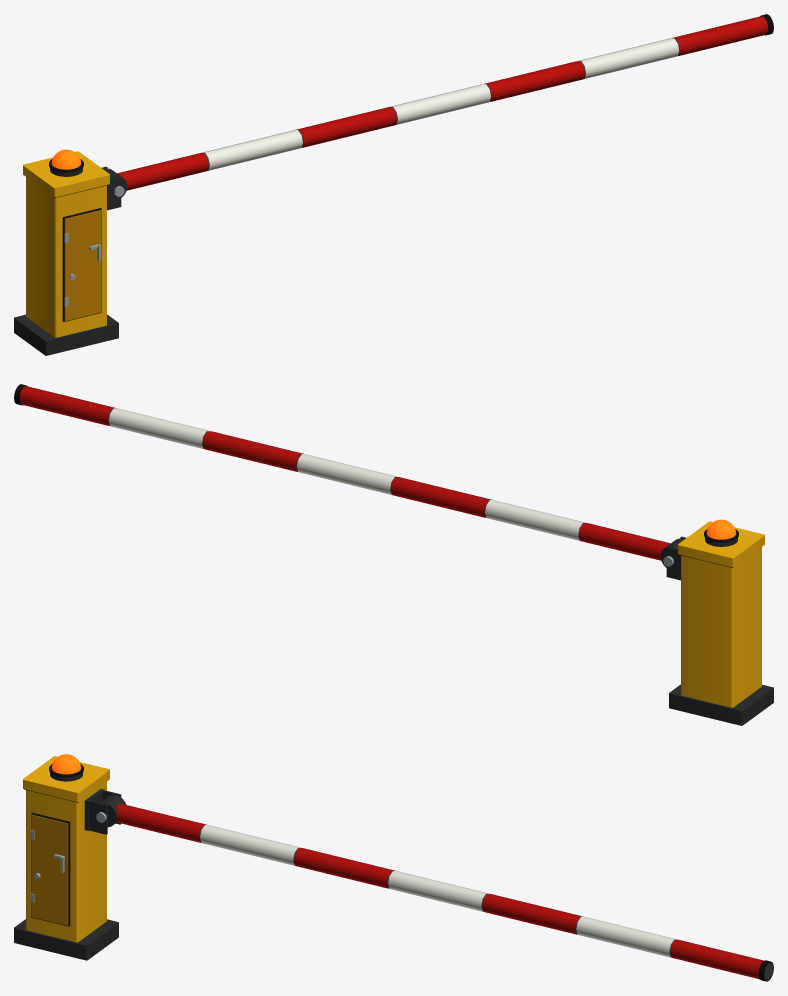
Rendered from boom-barrier-gate.glb.
3 views of the same model, one above another, from view 1: azimuth 30°, elevation 25°; view 2: azimuth 150°, elevation 25°; view 3: azimuth 330°, elevation 25° (orthographic).
Parts seen in each view (by area): view 1: cabinet_shell, Geom.001, base_plinth, top_cap, boom_paint_2, boom_paint_5, boom_paint_1, boom_paint_3, boom_paint_4, boom_paint_6, boom_paint_0; view 2: cabinet_shell, base_plinth, top_cap, boom_paint_2, boom_paint_5, boom_paint_1, boom_paint_3, boom_paint_4, boom_paint_6, boom_paint_0; view 3: cabinet_shell, Geom.001, base_plinth, top_cap, boom_paint_5, boom_paint_2, boom_paint_3, boom_paint_1, boom_paint_4, boom_paint_6, boom_paint_0, hinge_bracket (+2 smaller).
Part boxes in pixels (x1,y1,x2,y2): cabinet_shell: (26,177,106,337); Geom.001: (64,210,101,321); base_plinth: (14,314,118,355); top_cap: (23,151,109,197); boom_paint_2: (295,107,396,147); boom_paint_5: (578,38,678,78); boom_paint_1: (201,130,302,170); boom_paint_3: (390,84,490,124); boom_paint_4: (484,61,584,101); boom_paint_6: (672,16,768,55); boom_paint_0: (117,153,208,190); cabinet_shell: (681,547,761,707); base_plinth: (669,684,773,725); top_cap: (678,521,764,567); boom_paint_2: (391,477,492,517); boom_paint_5: (109,408,209,448); boom_paint_1: (485,500,586,540); boom_paint_3: (297,454,397,494); boom_paint_4: (203,431,303,471); boom_paint_6: (19,386,115,425); boom_paint_0: (579,523,670,560); cabinet_shell: (26,782,106,942); Geom.001: (31,814,68,925); base_plinth: (14,919,118,960); top_cap: (23,756,109,801); boom_paint_5: (576,916,677,957); boom_paint_2: (294,848,395,888); boom_paint_3: (388,871,489,911); boom_paint_1: (200,825,301,865); boom_paint_4: (482,893,582,934); boom_paint_6: (670,939,763,979); boom_paint_0: (116,803,206,842); hinge_bracket: (84,789,121,834).
Bounding box in the file's own units: 4.21 × 1 × 0.349.
